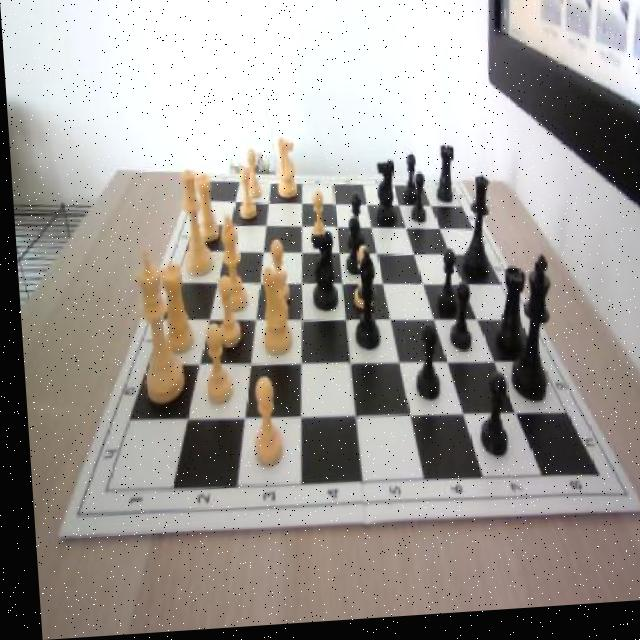bishop: (347, 256, 379, 355)
black-bishop: (500, 263, 552, 410)
black-king: (305, 231, 333, 313), (368, 161, 394, 235)
black-knight: (471, 378, 504, 463), (408, 327, 438, 406), (441, 287, 468, 358), (430, 252, 455, 321), (340, 219, 362, 281), (342, 197, 364, 255), (406, 177, 424, 231), (399, 159, 417, 210)
black-pawn: (453, 180, 492, 287)
black-queen: (488, 270, 524, 361), (432, 151, 454, 209)
black-rook: (212, 217, 243, 316)
white-bishop: (130, 244, 181, 405)
white-king: (248, 259, 293, 363), (271, 137, 297, 203)
white-knight: (242, 379, 279, 471), (194, 323, 230, 409), (207, 276, 239, 354), (259, 243, 287, 312), (347, 247, 372, 315), (304, 194, 326, 252), (240, 155, 261, 204), (234, 170, 254, 221)
white-pawn: (174, 170, 212, 277)
white-queen: (156, 260, 190, 356), (189, 174, 216, 248)
